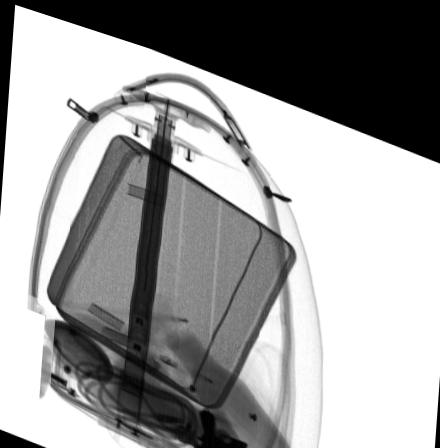Gun: (193, 396, 260, 448)
